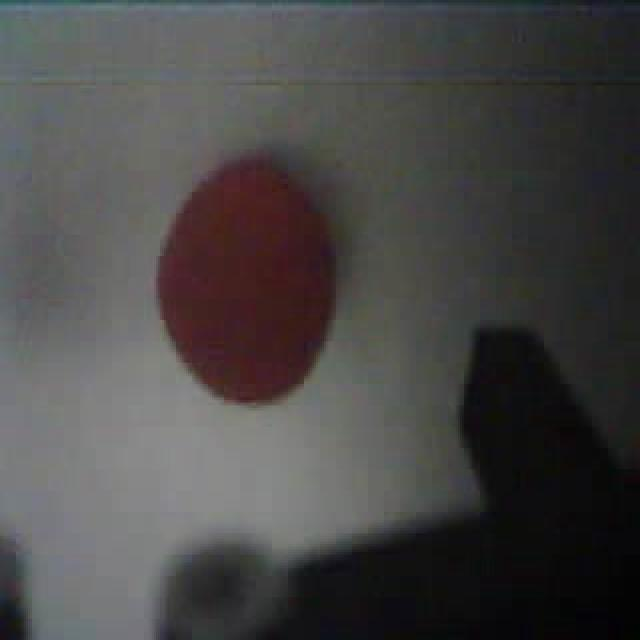red_ball: (152, 149, 342, 408)
